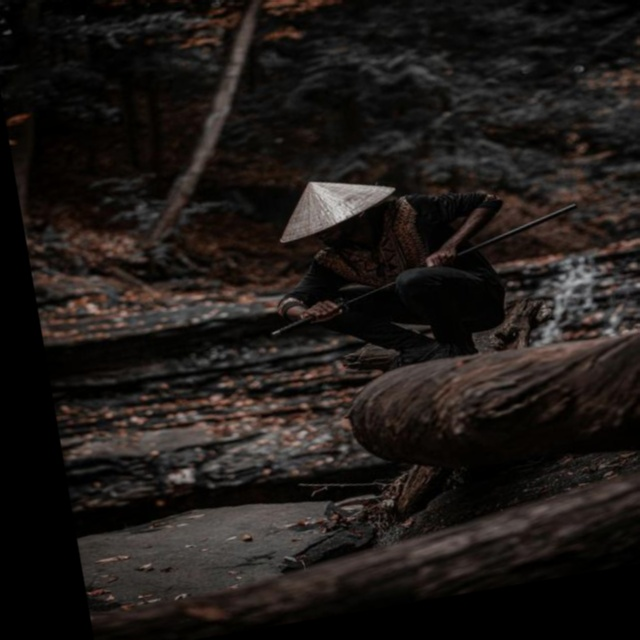Sharp-Object: (248, 198, 597, 347)
